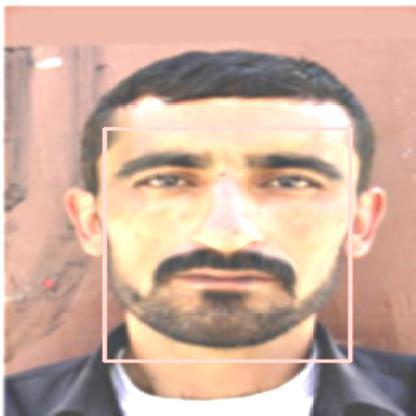without_mask: (104, 128, 350, 361)
